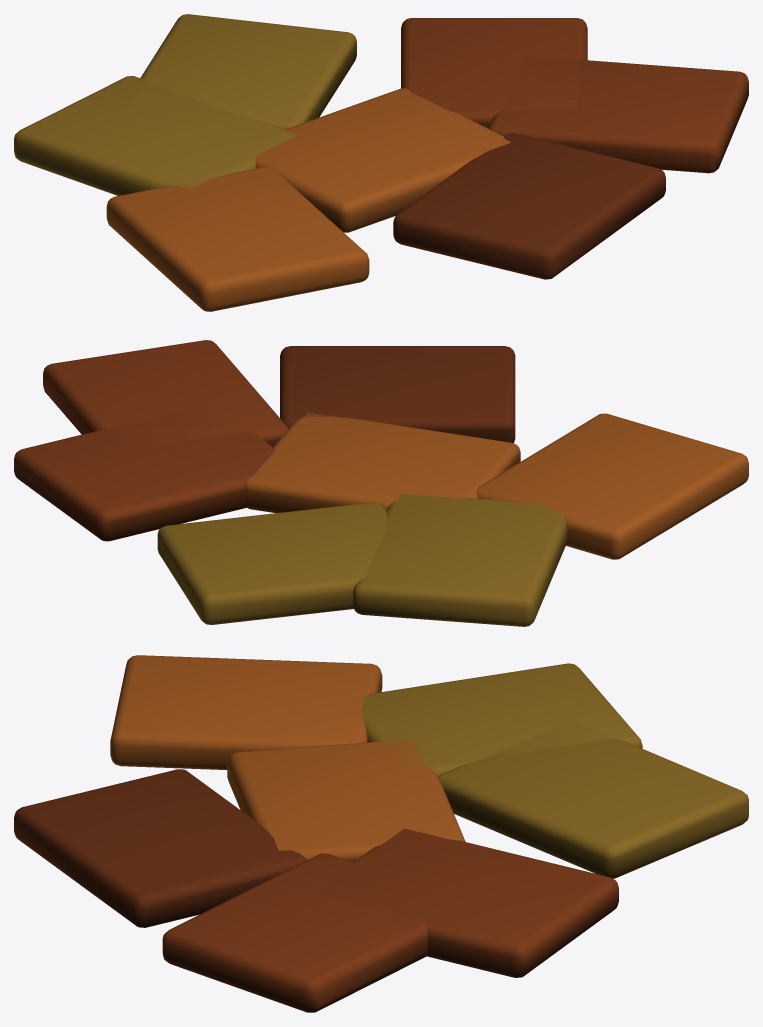
The model's file is fallen-leaves.obj.
The picture shows the model from 3 angles, top to bottom: view 1: azimuth 30°, elevation 25°; view 2: azimuth 150°, elevation 25°; view 3: azimuth 270°, elevation 25°; orthographic projection. The views are drawn at different scales.
Parts seen in each view (by area): view 1: fallen-leaves; view 2: fallen-leaves; view 3: fallen-leaves.
Part boxes in pixels (<box>): fallen-leaves: <box>14,14,748,311</box>; fallen-leaves: <box>14,340,748,626</box>; fallen-leaves: <box>14,655,748,1012</box>.
Size of the model in its own units: 0.4278 by 0.02 by 0.4001.
